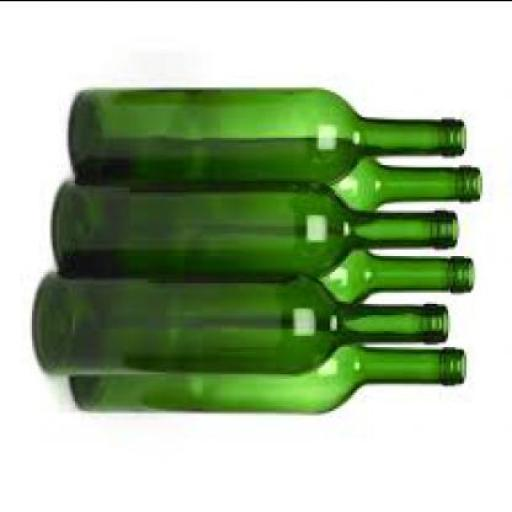glass: (37, 268, 453, 376), (54, 177, 460, 278), (72, 84, 466, 178), (73, 338, 469, 410), (323, 246, 476, 300), (335, 155, 482, 209)
